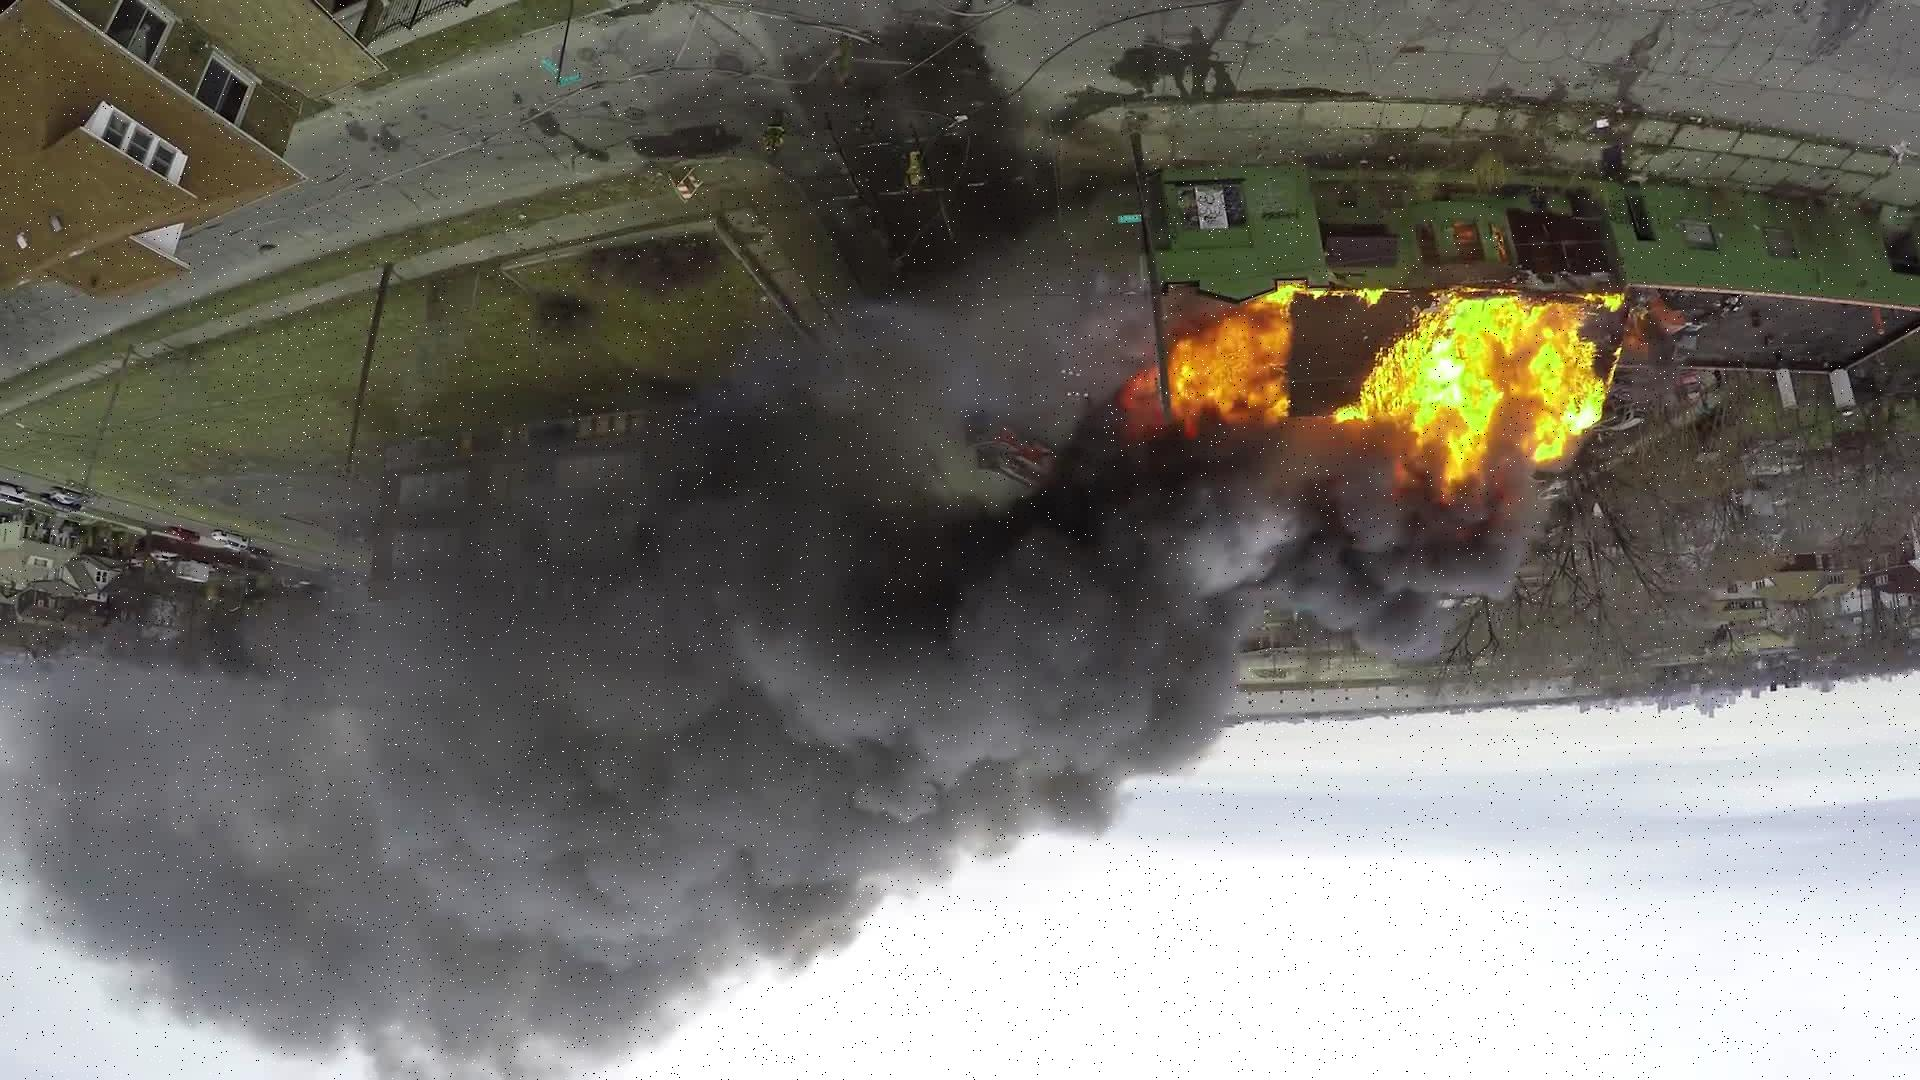fire: (1344, 284, 1630, 516), (1114, 276, 1311, 440)
